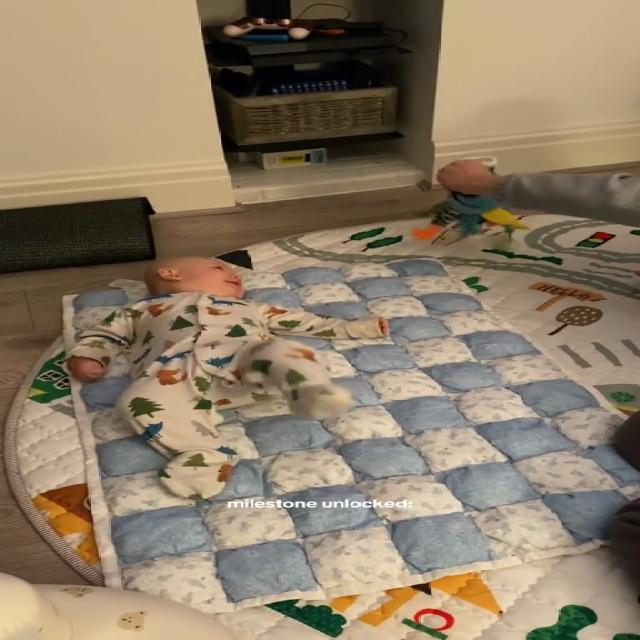baby: (61, 252, 391, 509)
